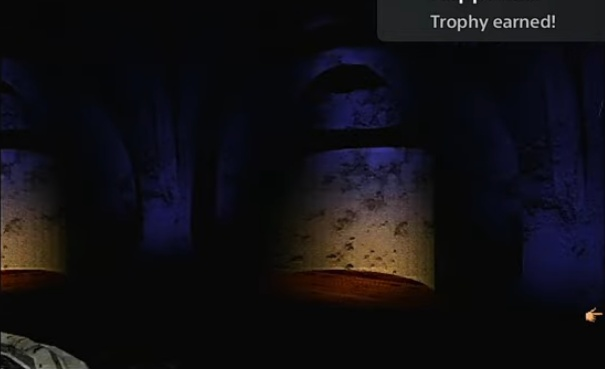Pointer: (583, 303, 604, 325)
